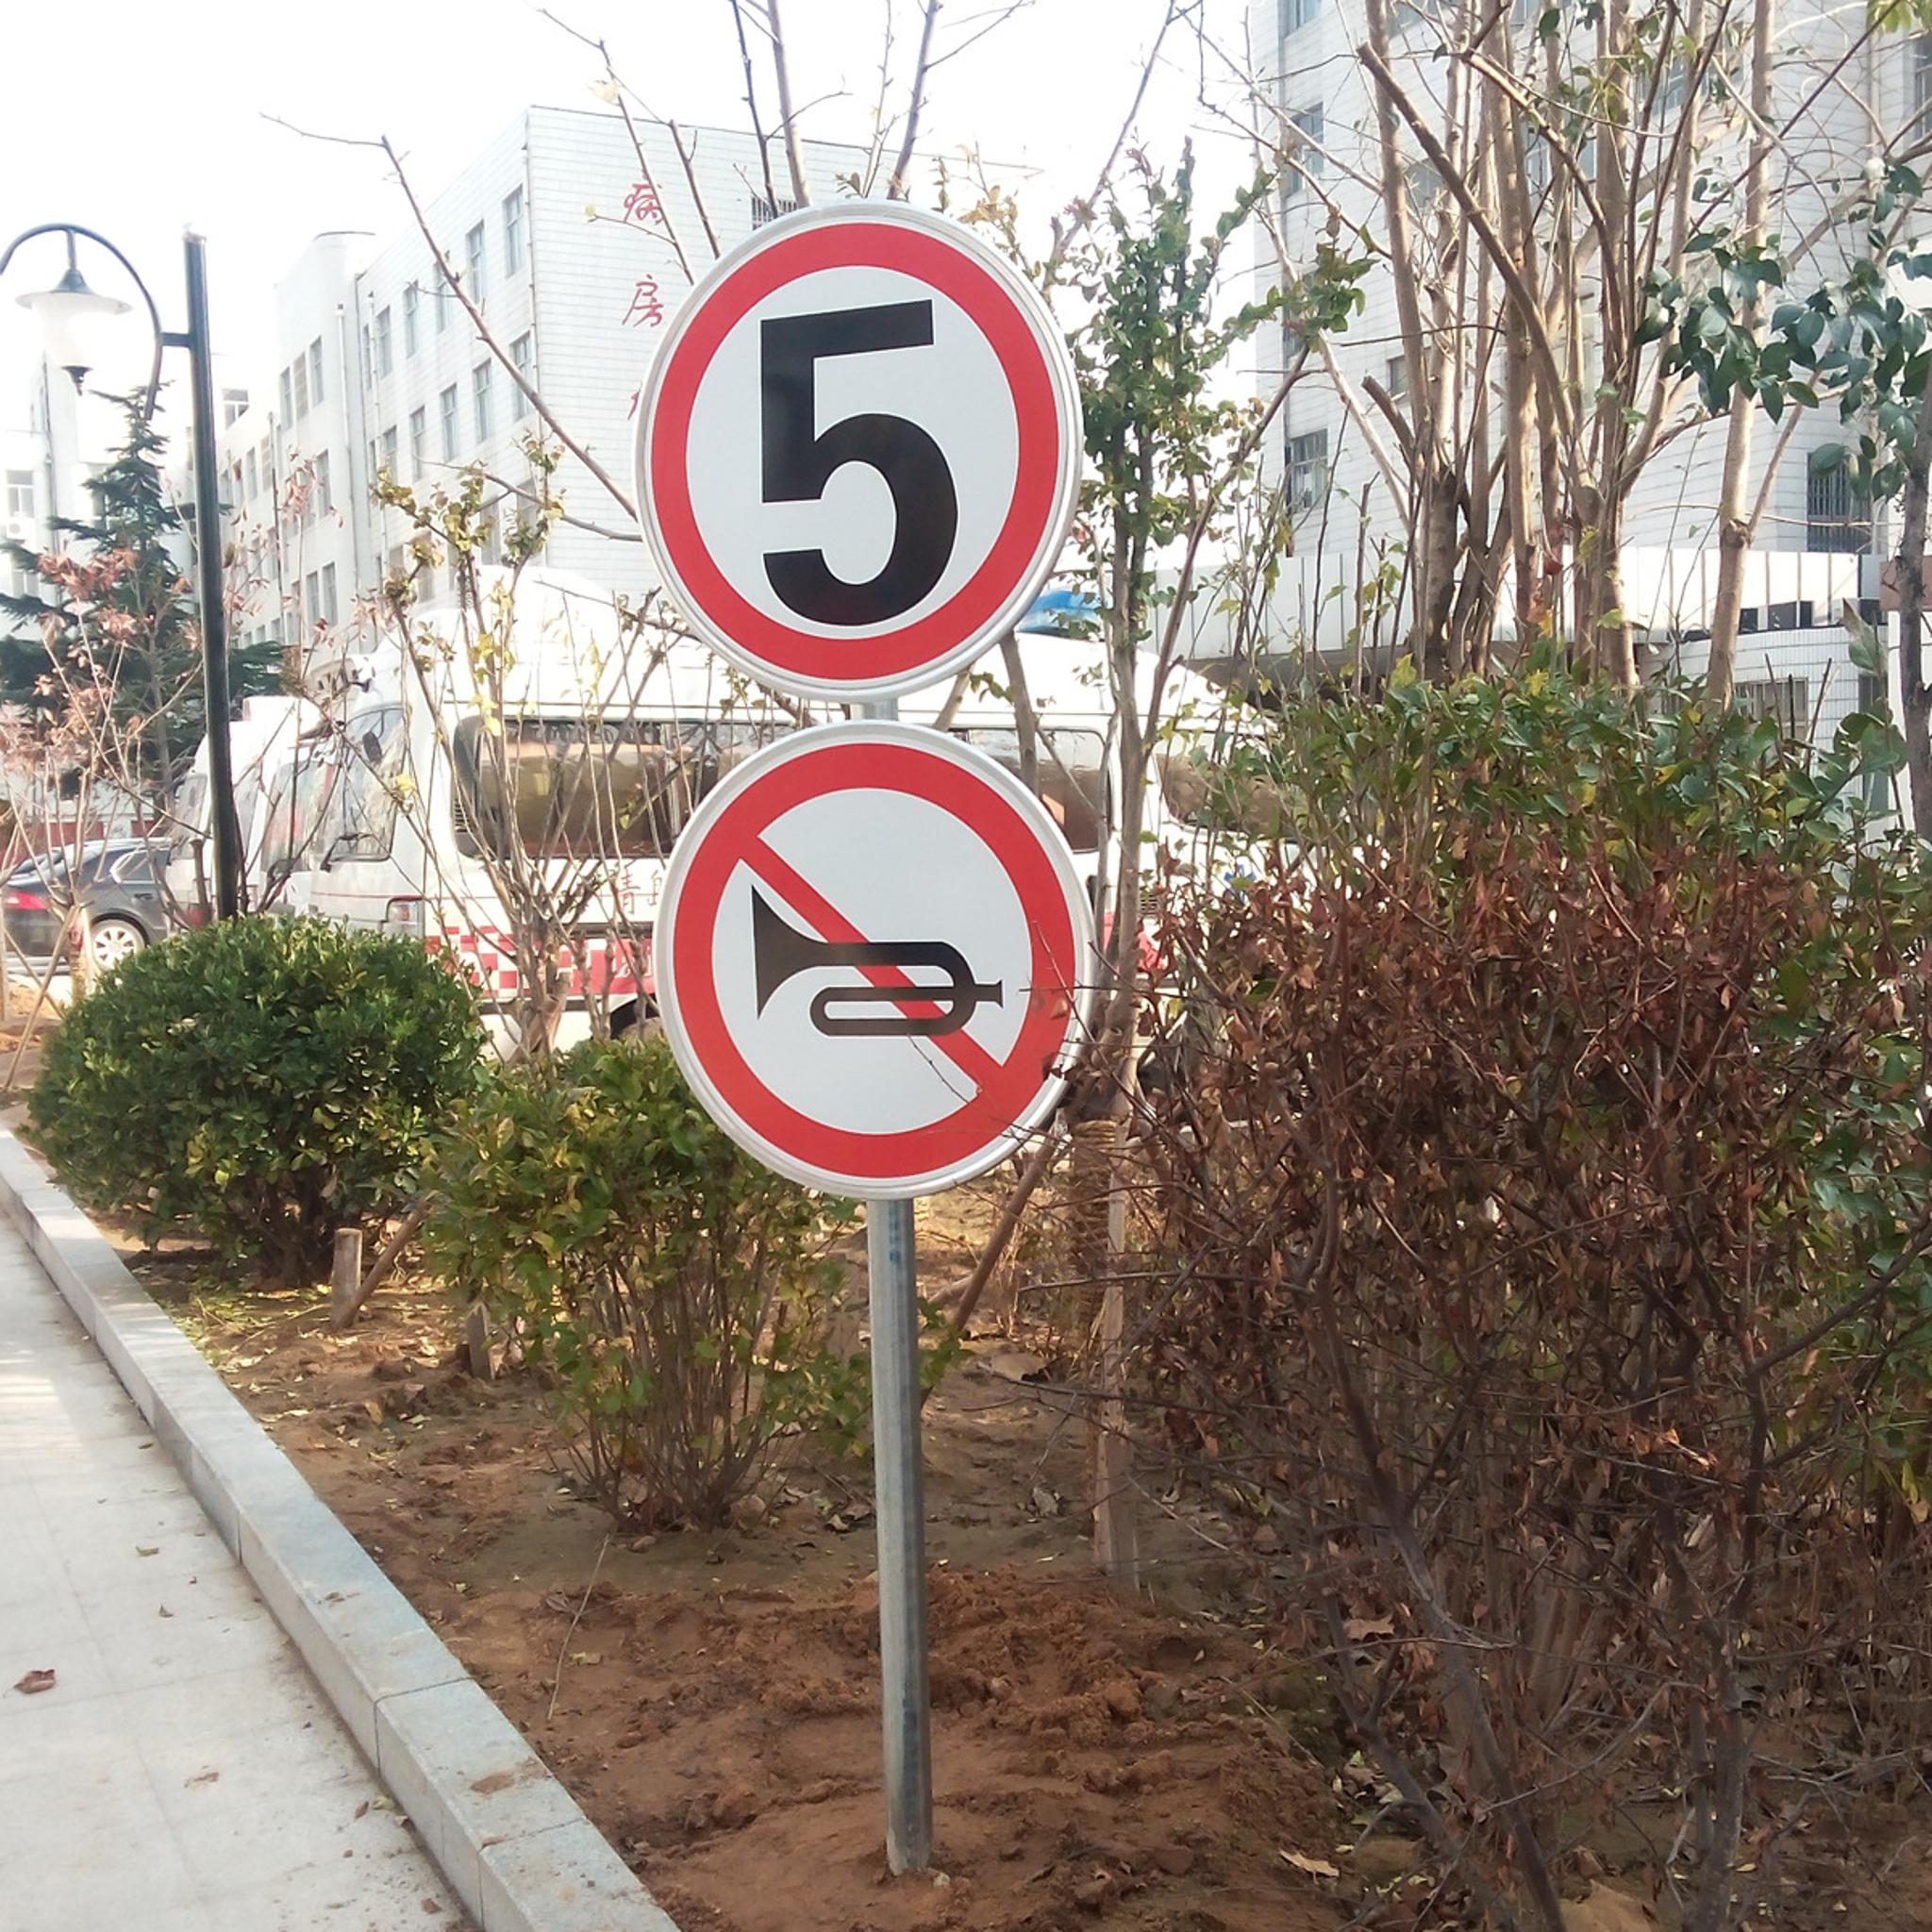p11: (651, 718, 1092, 1198)
pl5: (642, 205, 1077, 701)
